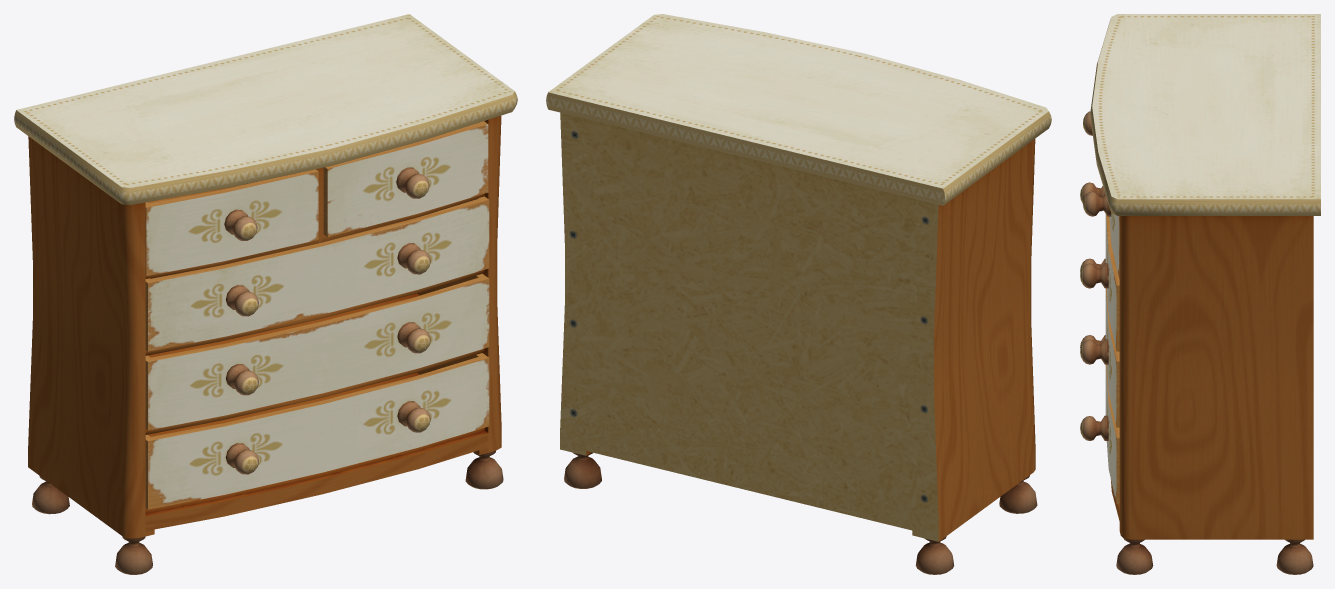
Rendered from commode.glb.
3 views of the same model, side by side, from view 1: azimuth 30°, elevation 25°; view 2: azimuth 150°, elevation 25°; view 3: azimuth 270°, elevation 25° (orthographic). The views are drawn at different scales.
Visible parts, largest first — view 1: commode, commodePartBig, commodePartBig.001, commodePartBig.002, commodePartSmall, commodePartSmall.001; view 2: commode; view 3: commode, commodePartBig.002, commodePartBig.001, commodePartBig, commodePartSmall.001.
Boxes of the visible parts, box(x1,y1,x2,y2) form: commode: box(14, 14, 517, 574); commodePartBig: box(145, 353, 489, 509); commodePartBig.001: box(145, 273, 489, 430); commodePartBig.002: box(145, 196, 489, 351); commodePartSmall: box(145, 169, 318, 275); commodePartSmall.001: box(323, 121, 488, 237); commode: box(546, 14, 1051, 574); commode: box(1090, 14, 1320, 574); commodePartBig.002: box(1080, 182, 1119, 351); commodePartBig.001: box(1080, 258, 1119, 427); commodePartBig: box(1080, 335, 1119, 504); commodePartSmall.001: box(1083, 191, 1119, 279).
Size of the model in its own units: 1.3 by 1.23 by 0.7076.
1 material, 1 textured.
